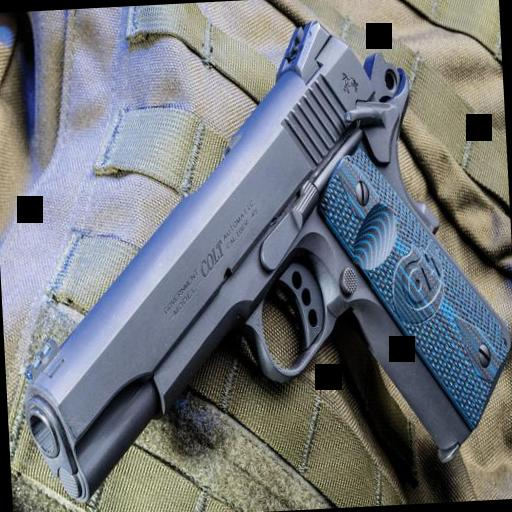Handgun: (6, 16, 512, 512)
